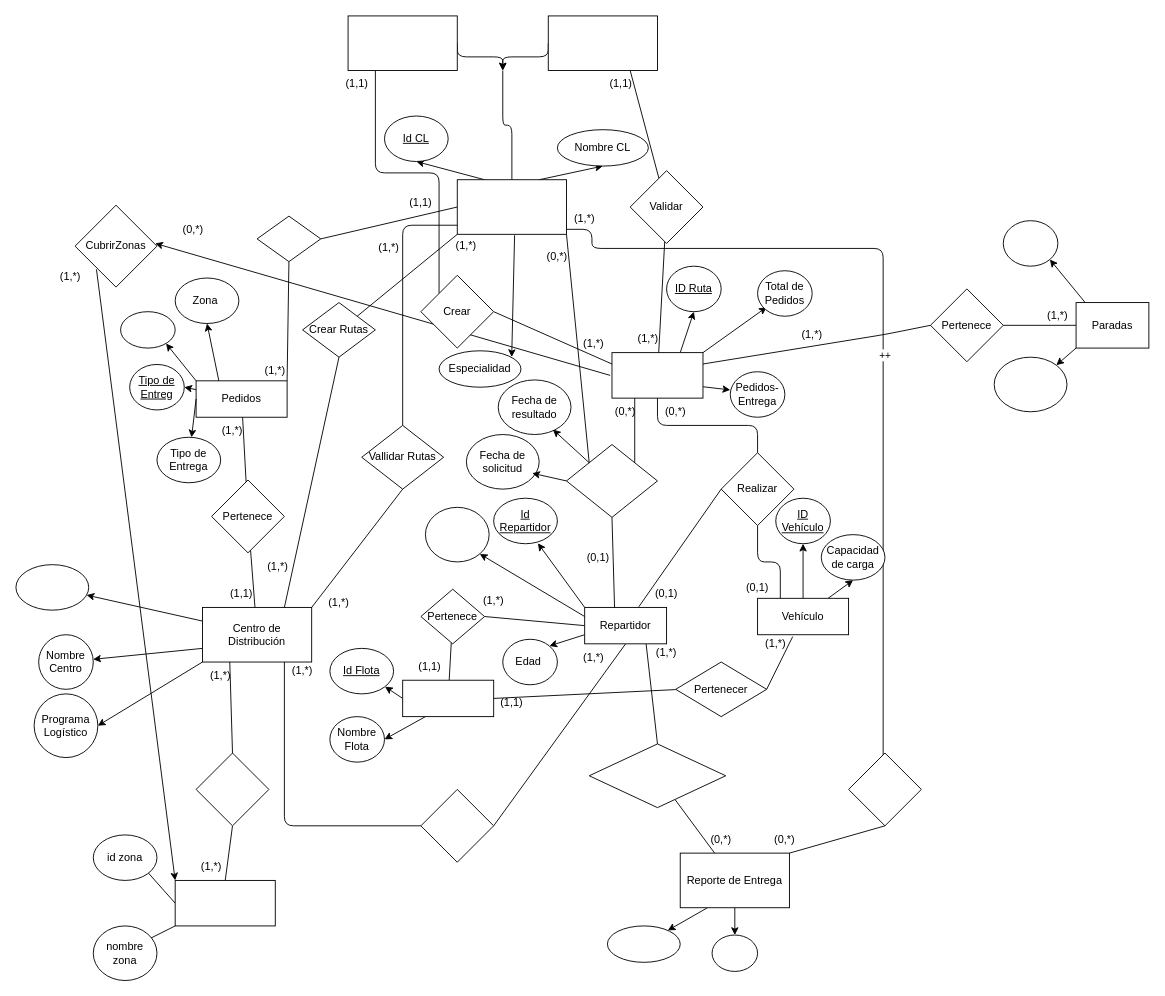
The diagram is 1165 pixels wide and 996 high, and some of its shapes have lost their labels. The shapes that lost their labels are listed below. From the top down, each one's box as (x1, y1, x2, y2) in pixels, then its label:
(347, 15, 457, 71): Logistico
(547, 15, 657, 71): Supervisor de Operaciones
(456, 179, 566, 234): Coordinadores Logísticos
(256, 215, 321, 262): Ingresa
(1002, 220, 1058, 266): ID Parada
(120, 311, 175, 348): Prioridad
(611, 352, 703, 398): Ruta
(993, 356, 1067, 412): Estado de ejecución
(566, 444, 657, 517): Reprogramar
(425, 506, 489, 562): Nombre Repartidor
(15, 564, 89, 610): ID Centro
(402, 679, 494, 717): Flota
(195, 752, 269, 826): Cubre
(588, 743, 726, 808): ConsultaR
(848, 752, 921, 826): ConsultaC
(420, 789, 494, 862): Asignar
(174, 880, 275, 926): Zonas
(607, 925, 680, 962): ID Reporte
(711, 934, 758, 971): Fecha
